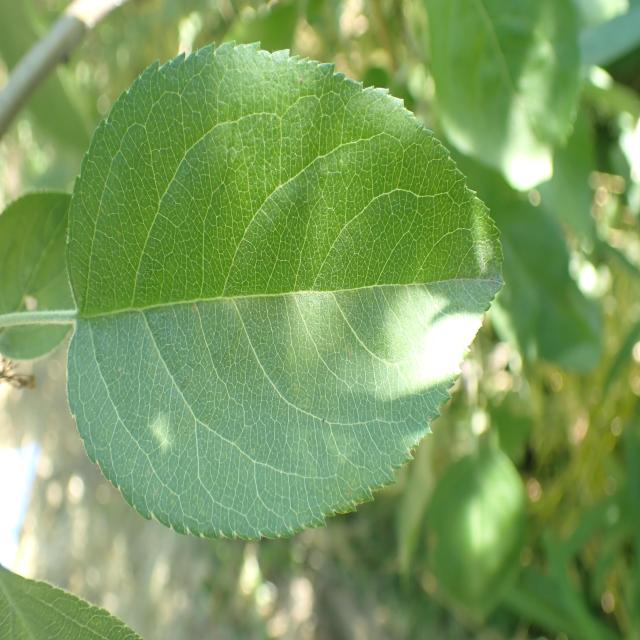healthy: (64, 38, 507, 542), (0, 189, 78, 362), (0, 562, 145, 640)
